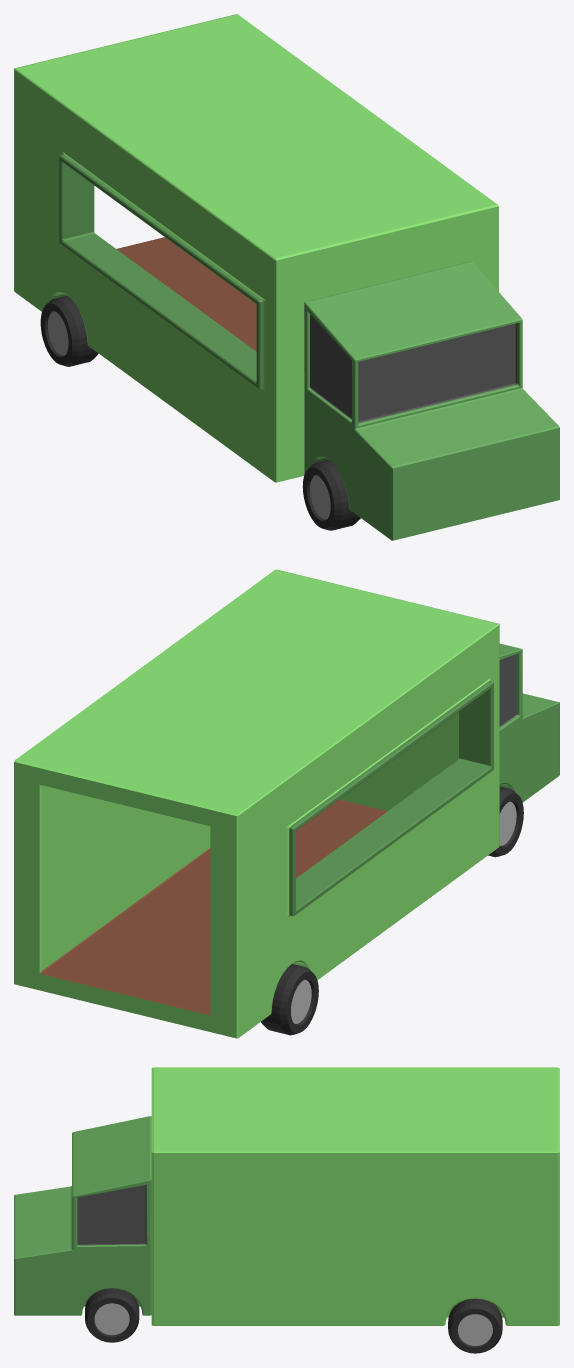
File: food_truck.glb
3 renders of one model, top to bottom at view 1: azimuth 30°, elevation 25°; view 2: azimuth 150°, elevation 25°; view 3: azimuth 270°, elevation 25°, orthographic. The views are drawn at different scales.
Visible parts, largest first — view 1: Chassis_back, Chassis_front, Wheel, Wheel.001; view 2: Chassis_back, Chassis_front, Wheel, Wheel.001; view 3: Chassis_back, Chassis_front, Wheel.003, Wheel.002.
Part boxes in pixels (x1=…): Chassis_back: x1=14, y1=14, x2=498, y2=482; Chassis_front: x1=304, y1=261, x2=559, y2=540; Wheel: x1=40, y1=295, x2=98, y2=366; Wheel.001: x1=302, y1=459, x2=360, y2=530; Chassis_back: x1=14, y1=569, x2=499, y2=1038; Chassis_front: x1=499, y1=643, x2=559, y2=802; Wheel: x1=261, y1=964, x2=318, y2=1035; Wheel.001: x1=488, y1=786, x2=523, y2=857; Chassis_back: x1=151, y1=1067, x2=559, y2=1325; Chassis_front: x1=14, y1=1116, x2=151, y2=1315; Wheel.003: x1=448, y1=1299, x2=502, y2=1353; Wheel.002: x1=85, y1=1288, x2=139, y2=1342.
Size of what is drawn, in the model's own units: 2.43 by 2.39 by 5.95.
